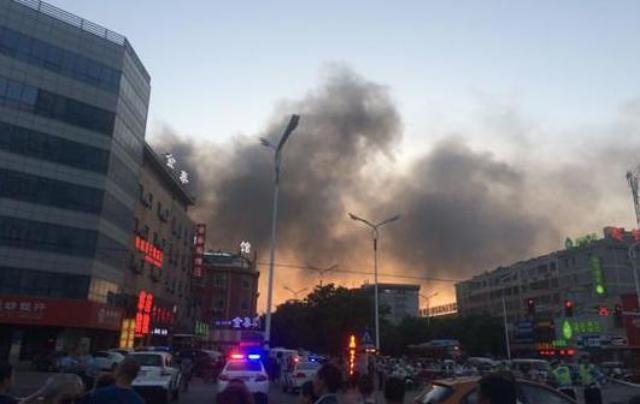smoke: (162, 134, 362, 250), (382, 151, 542, 277), (534, 101, 636, 225), (264, 65, 406, 136)
